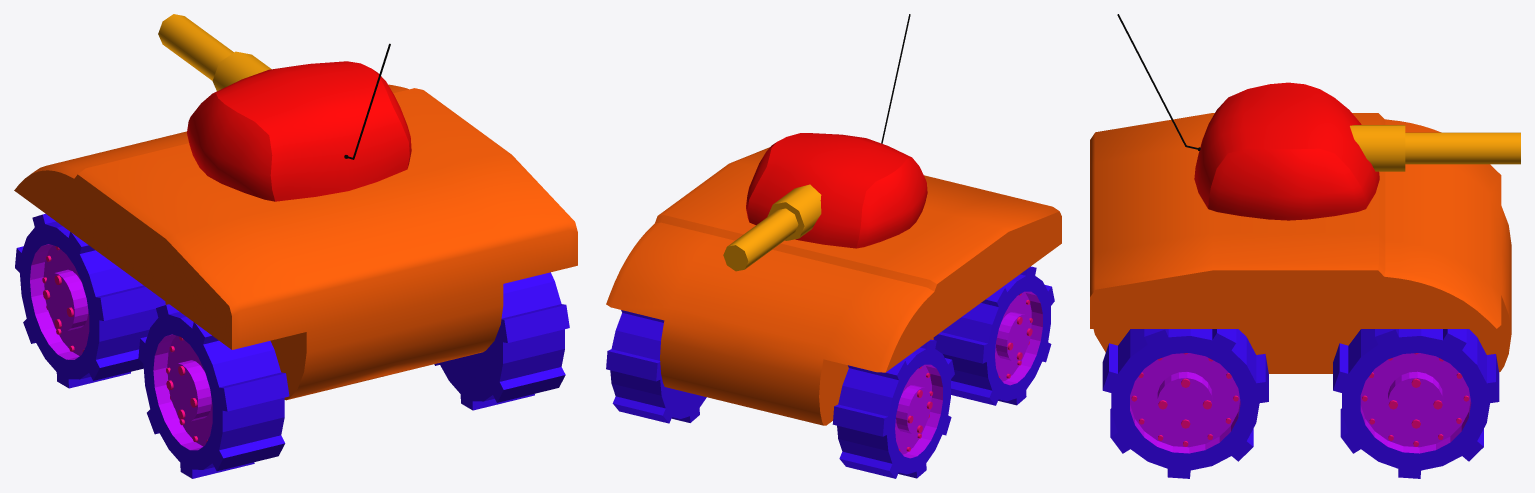
3 views of the same model, side by side, from view 1: azimuth 30°, elevation 25°; view 2: azimuth 150°, elevation 25°; view 3: azimuth 270°, elevation 25° (orthographic). The views are drawn at different scales.
Visible parts, largest first — view 1: Body, Wheels (×3), Turret, Canon; view 2: Body, Wheels (×3), Turret, Canon; view 3: Body, Wheels (×2), Turret, Canon.
Part boxes in pixels (left/top/right/bottom): Body: left=14, top=84, right=577, bottom=400; Wheels (×3): left=15, top=213, right=569, bottom=478; Turret: left=187, top=61, right=411, bottom=201; Canon: left=158, top=14, right=271, bottom=91; Body: left=606, top=147, right=1061, bottom=425; Wheels (×3): left=606, top=266, right=1054, bottom=478; Turret: left=746, top=133, right=927, bottom=248; Canon: left=723, top=184, right=821, bottom=271; Body: left=1090, top=113, right=1511, bottom=373; Wheels (×2): left=1102, top=329, right=1499, bottom=478; Turret: left=1194, top=82, right=1379, bottom=220; Canon: left=1350, top=125, right=1520, bottom=171.
Size of the model in its own units: 2.01 by 2.29 by 2.31.
